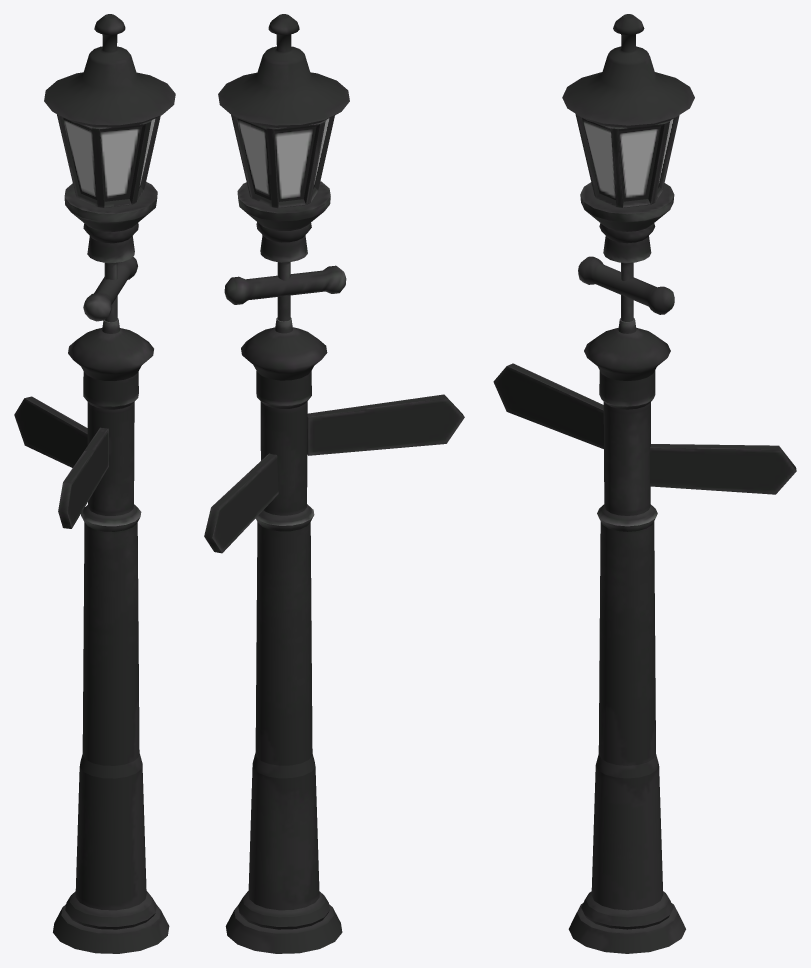
The model's file is HoD_LampPost.fbx.
3 renders of one model, left to right at view 1: azimuth 30°, elevation 25°; view 2: azimuth 150°, elevation 25°; view 3: azimuth 270°, elevation 25°, orthographic.
Visible parts, largest first — view 1: LampPostBody, LampPostEmissive_1, LampPostSign1, LampPostSign2; view 2: LampPostBody, LampPostSign2, LampPostEmissive_1, LampPostSign1; view 3: LampPostBody, LampPostSign1, LampPostSign2, LampPostEmissive_1.
Part boxes in pixels (x1=…): LampPostBody: x1=44, y1=14, x2=175, y2=953; LampPostEmissive_1: x1=63, y1=118, x2=155, y2=201; LampPostSign1: x1=14, y1=396, x2=87, y2=467; LampPostSign2: x1=58, y1=427, x2=108, y2=528; LampPostBody: x1=218, y1=14, x2=349, y2=953; LampPostSign2: x1=307, y1=394, x2=464, y2=455; LampPostEmissive_1: x1=237, y1=118, x2=329, y2=201; LampPostSign1: x1=204, y1=453, x2=278, y2=553; LampPostBody: x1=562, y1=14, x2=694, y2=953; LampPostSign1: x1=650, y1=444, x2=796, y2=494; LampPostSign2: x1=493, y1=363, x2=603, y2=448; LampPostEmissive_1: x1=582, y1=118, x2=674, y2=201.
Bounding box in the file's own units: 2.38 × 11.92 × 3.59.
